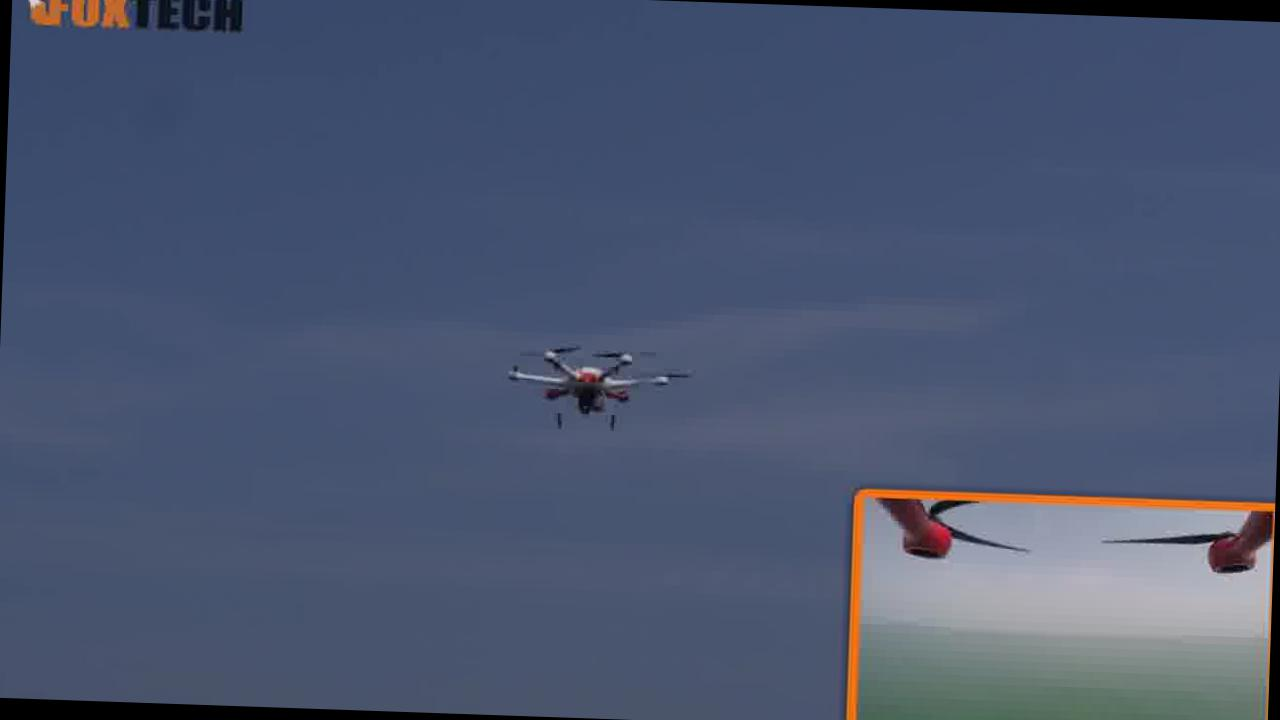drone: (478, 328, 693, 446)
